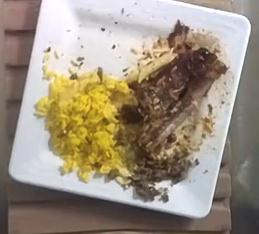ribs: (129, 48, 218, 153)
rice: (35, 72, 135, 184)
